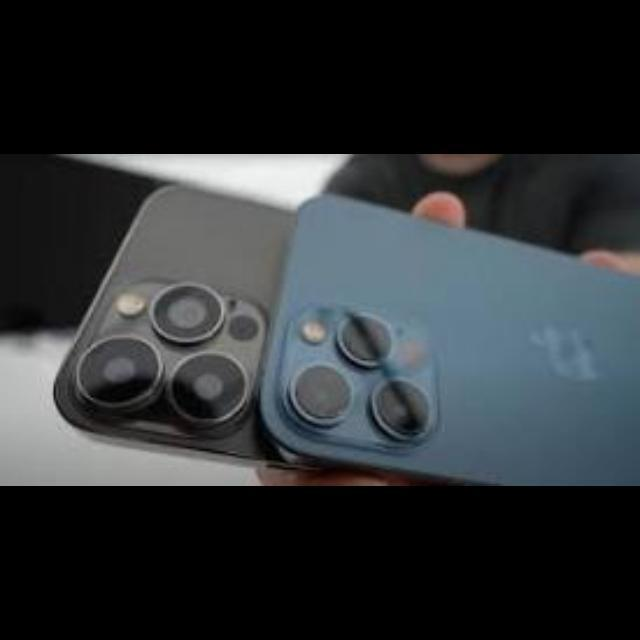PhoneUse: (264, 198, 638, 460), (43, 186, 287, 452)
